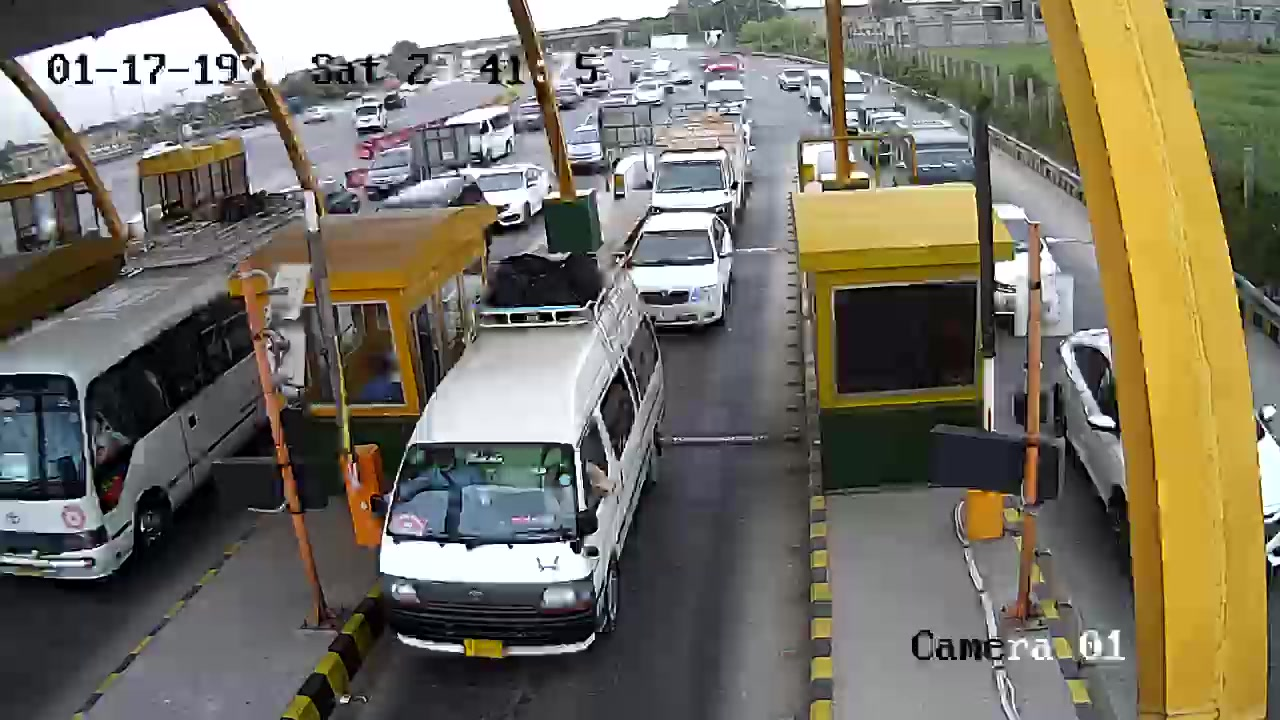F3: (369, 242, 672, 673)
